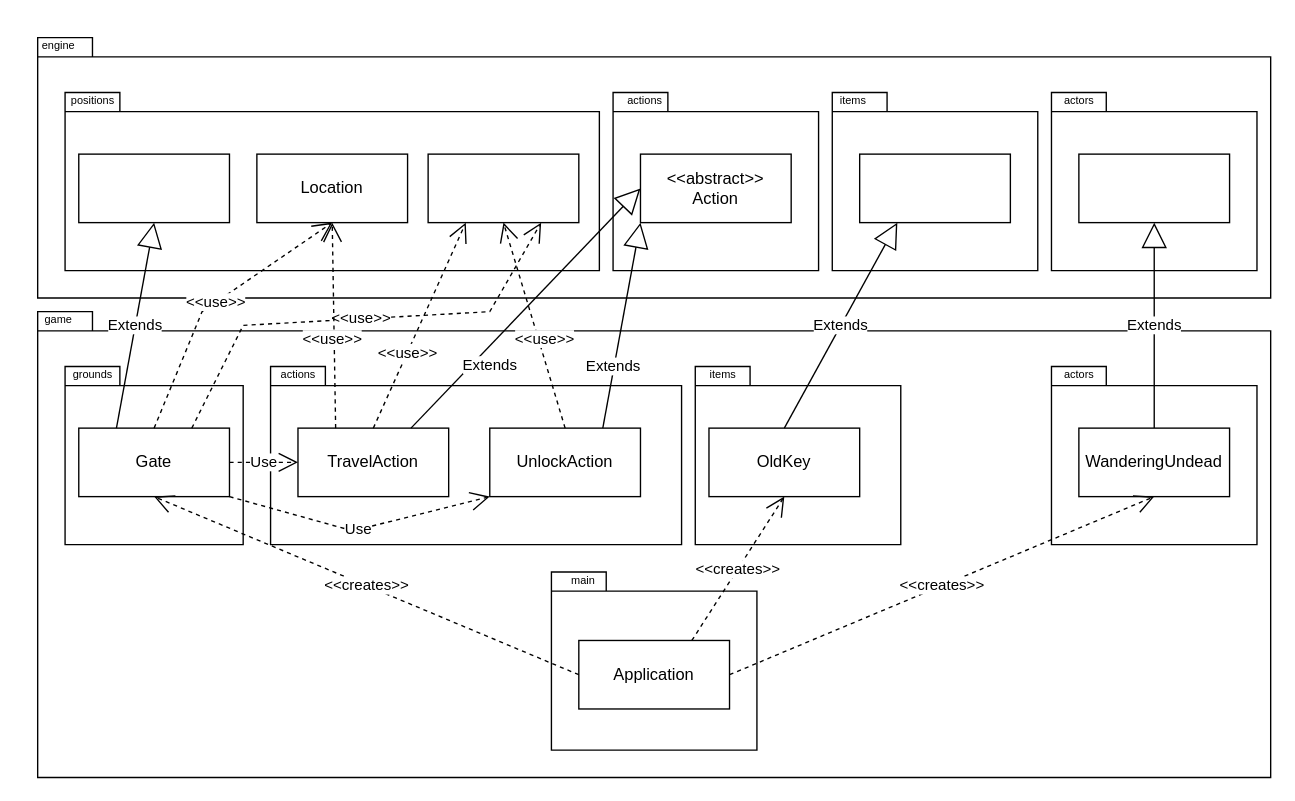
This 1295x801 diagram has some shape labels left out. Here are the shapes that lost their labels. From the top down, the box of each, then its label:
(77, 153, 229, 223): <<abstract>> Ground
(427, 153, 579, 223): GameMap
(858, 153, 1010, 223): <<abstract>> Item
(1078, 153, 1230, 223): <<abstract>> EnemyActor
